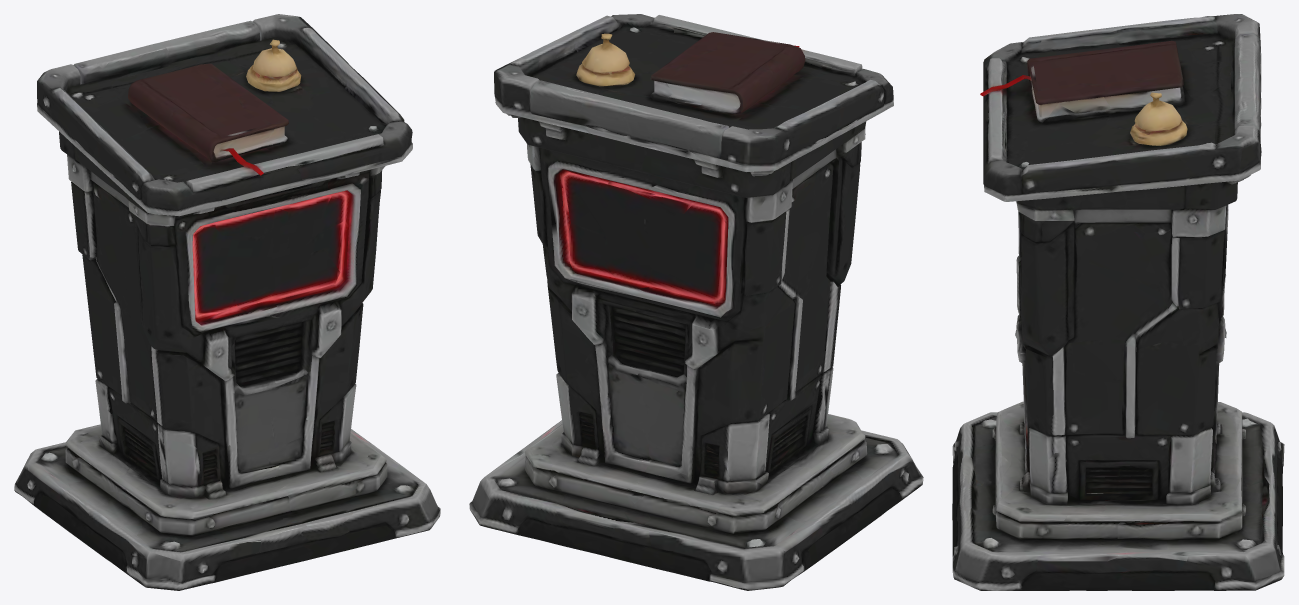
The model's file is decor-podium.glb.
3 renders of one model, left to right at view 1: azimuth 30°, elevation 25°; view 2: azimuth 150°, elevation 25°; view 3: azimuth 270°, elevation 25°, orthographic. The views are drawn at different scales.
Parts seen in each view (by area): view 1: body; view 2: body; view 3: body.
Part boxes in pixels (x1,y1,x2,y2): body: (14, 14, 440, 590); body: (469, 14, 923, 590); body: (952, 14, 1284, 590).
Bounding box in the file's own units: 0.7158 × 0.9977 × 0.6586.
Materials: 1 (1 with a texture image).
